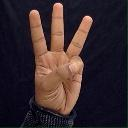hand: (28, 2, 93, 116)
